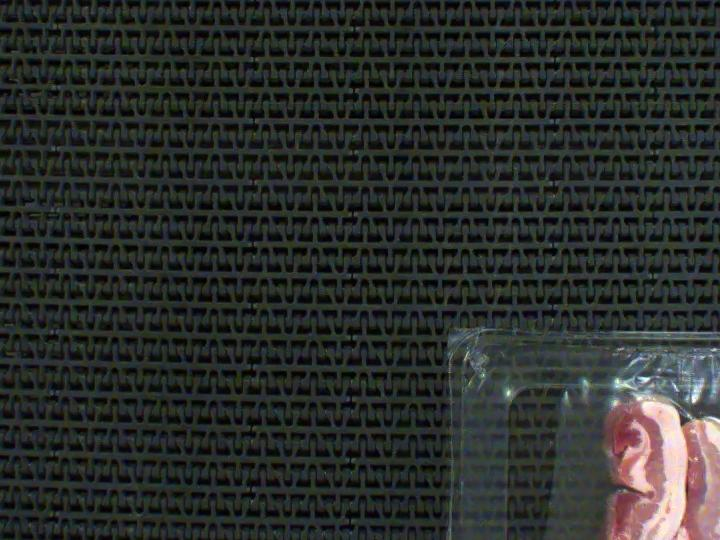unsealed: (496, 356, 720, 540)
